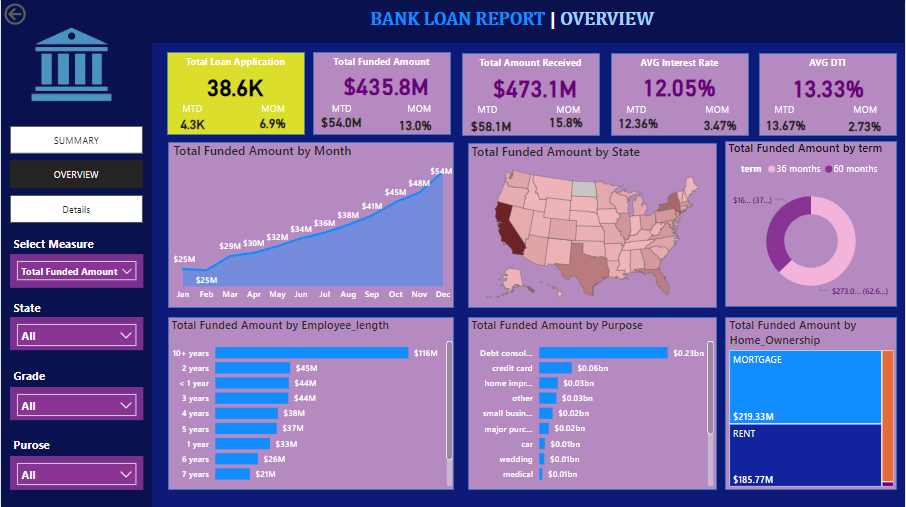

What the dashboard file says about the page in this screenshot:
{"tool":"powerbi","page":{"name":"OVERVIEW","canvas":[1280,720],"ordinal":1},"visuals":[{"type":"shape","box":[0,0,214,720],"z":0},{"type":"shape","box":[441.9,74.3,195.6,117.6],"z":0,"group":"g2"},{"type":"shape","box":[0,0,1279.8,60.9],"z":1000},{"type":"card","fields":{"Values":["bank_loan_data.Total Funded Amount"]},"box":[470,102.2,153.1,38.3],"z":1000,"group":"g2"},{"type":"textbox","box":[510,7.1,427.1,44.3],"z":2000},{"type":"shape","box":[236.1,74.3,195.6,117.6],"z":2000,"group":"g7"},{"type":"textbox","box":[457.5,74.3,163,31.2],"z":2000,"group":"g2"},{"type":"shape","box":[653.1,75,195.6,117.6],"z":2000,"group":"g4"},{"type":"shape","box":[863.9,75,195.6,117.6],"z":2000,"group":"g5"},{"type":"shape","box":[1074.7,75,195.6,117.6],"z":2000,"group":"g6"},{"type":"group","id":"g1","title":"Group 1","box":[235.7,74.3,195.7,127.1],"z":3000},{"type":"textbox","box":[562.6,140.8,60.5,31.7],"z":3000,"group":"g2"},{"type":"group","id":"g2","title":"Group 2","box":[439.7,74.3,197.8,124.3],"z":4000},{"type":"card","fields":{"Values":["bank_loan_data.Total Amount Received"]},"box":[688.6,102,136.1,42.5],"z":4000,"group":"g4"},{"type":"card","fields":{"Values":["bank_loan_data.Avg Interest Rate"]},"box":[895.4,102,130.4,41.1],"z":4000,"group":"g5"},{"type":"card","fields":{"Values":["bank_loan_data.Avg DTI"]},"box":[1110.7,102,124.7,42.5],"z":4000,"group":"g6"},{"type":"card","fields":{"Values":["bank_loan_data.Total Loan Application"]},"box":[285.3,102.7,93.5,39.7],"z":4000,"group":"g7"},{"type":"group","id":"g3","title":"Group 4","box":[439.7,141,85.7,48.6],"z":4000,"group":"g2"},{"type":"textbox","box":[251.7,74.3,163,31.2],"z":5000,"group":"g7"},{"type":"group","id":"g4","title":"Group 2","box":[653.1,75,195.6,127.6],"z":5000},{"type":"textbox","box":[668.7,75,163,31.2],"z":5000,"group":"g4"},{"type":"textbox","box":[879.5,75,163,31.2],"z":5000,"group":"g5"},{"type":"textbox","box":[1090.3,75,163,31.2],"z":5000,"group":"g6"},{"type":"card","fields":{"Values":["bank_loan_data.MoM Funded Amount"]},"box":[555,157.5,65.2,41.1],"z":5000,"group":"g2"},{"type":"group","id":"g5","title":"Group 2","box":[862.8,75,196.7,127.6],"z":6000},{"type":"card","fields":{"Values":["bank_loan_data.MTD Avg Interest Rate"]},"box":[862.8,148.7,79.4,53.9],"z":6000,"group":"g5"},{"type":"card","fields":{"Values":["bank_loan_data.MTD Loan Application"]},"box":[235.7,152.3,72.1,49],"z":6000,"group":"g7"},{"type":"card","fields":{"Values":["bank_loan_data.MTD Amount Received"]},"box":[658.7,157.2,70.9,45.4],"z":6000,"group":"g4"},{"type":"card","fields":{"Values":["bank_loan_data.MTD Avg DTI"]},"box":[1075.5,157.2,72.3,42.5],"z":6000,"group":"g6"},{"type":"card","fields":{"Values":["bank_loan_data.MTD Funded Amount"]},"box":[439.7,159.6,85.7,30],"z":6000,"group":"g3"},{"type":"group","id":"g6","title":"Group 2","box":[1074.7,75,195.6,124.7],"z":7000},{"type":"textbox","box":[240,140.8,63.4,36],"z":7000,"group":"g7"},{"type":"textbox","box":[451.6,141,64.3,28.6],"z":7000,"group":"g3"},{"type":"textbox","box":[657,141.5,63.4,36],"z":7000,"group":"g4"},{"type":"textbox","box":[867.8,141.5,63.4,36],"z":7000,"group":"g5"},{"type":"textbox","box":[1078.6,141.5,63.4,36],"z":7000,"group":"g6"},{"type":"textbox","box":[356.8,140.8,60.5,31.7],"z":8000,"group":"g7"},{"type":"textbox","box":[773.8,141.5,60.5,31.7],"z":8000,"group":"g4"},{"type":"textbox","box":[984.6,141.5,60.5,31.7],"z":8000,"group":"g5"},{"type":"textbox","box":[1195.4,141.5,60.5,31.7],"z":8000,"group":"g6"},{"type":"shape","box":[236.7,201.3,405.4,235.3],"z":8000},{"type":"group","id":"g7","title":"Group 3","box":[235.7,74.3,196,127],"z":8001,"group":"g8"},{"type":"actionButton","box":[0,0,100,40],"z":9000},{"type":"card","fields":{"Values":["bank_loan_data.MoM Loan Application"]},"box":[356.8,153.8,57.7,44.7],"z":9000,"group":"g7"},{"type":"card","fields":{"Values":["bank_loan_data.MoM Avg Interest Rate"]},"box":[985,157.2,68,42.5],"z":9000,"group":"g5"},{"type":"card","fields":{"Values":["bank_loan_data.MoM Amount Received"]},"box":[766,159.3,67.1,31.4],"z":9000,"group":"g4"},{"type":"card","fields":{"Values":["bank_loan_data.MoM Avg DTI"]},"box":[1195.6,160.1,58.1,38.3],"z":9000,"group":"g6"},{"type":"group","id":"g8","title":"Group 2","box":[235.7,74.3,196,127],"z":9003,"group":"g1"},{"type":"slicer","fields":{"Values":["bank_loan_data.purpose"]},"box":[12.8,646.3,188.5,48.2],"z":10000},{"type":"slicer","fields":{"Values":["bank_loan_data.grade"]},"box":[12.8,548.5,188.5,46.8],"z":11000},{"type":"slicer","fields":{"Values":["bank_loan_data.address_state"]},"box":[12.8,449.3,188.5,46.8],"z":12000},{"type":"textbox","box":[12.8,419.5,59.5,32.6],"z":13000},{"type":"shape","box":[236.7,449.3,405.4,245.2],"z":14000},{"type":"textbox","box":[12.8,515.9,72.3,32.6],"z":15000},{"type":"textbox","box":[12.8,613.7,107.7,32.6],"z":16000},{"type":"textbox","box":[12.8,328.8,158.7,31.2],"z":17000},{"type":"areaChart","fields":{"Y":["bank_loan_data.Total Funded Amount"],"Category":["Date table.Month"]},"box":[239.5,201.3,405.4,233.9],"z":18000},{"type":"slicer","fields":{"Values":["New Measure.New Measure"]},"box":[12.8,360,188.5,48.2],"z":19000},{"type":"shape","box":[661.9,202.7,352.9,233.9],"z":20000},{"type":"shapeMap","fields":{"Value":["bank_loan_data.Total Funded Amount"],"Category":["bank_loan_data.address_state"]},"box":[661.9,202.7,352.9,233.9],"z":21000},{"type":"shape","box":[1026.1,199.8,243.8,235.3],"z":22000},{"type":"donutChart","fields":{"Y":["bank_loan_data.Total Funded Amount"],"Category":["bank_loan_data.term"]},"box":[1026.1,198.4,243.8,236.7],"z":23000},{"type":"clusteredBarChart","fields":{"Y":["bank_loan_data.Total Funded Amount"],"Category":["bank_loan_data.emp_length"]},"box":[236.7,449.3,408.2,245.2],"z":24000},{"type":"shape","box":[661.9,449.3,352.9,245.2],"z":25000},{"type":"barChart","fields":{"Y":["bank_loan_data.Total Funded Amount"],"Category":["bank_loan_data.purpose"]},"box":[661.9,449.3,352.9,245.2],"z":26000},{"type":"shape","box":[1026.1,449.3,243.8,245.2],"z":27000},{"type":"treemap","fields":{"Values":["bank_loan_data.Total Funded Amount"],"Group":["bank_loan_data.home_ownership"]},"box":[1027.6,449.3,242.4,245.2],"z":28000},{"type":"pageNavigator","box":[12.8,178.6,188.5,138.9],"z":29000},{"type":"image","box":[0,17,199.8,148.8],"z":30000}]}

Visuals, with their boxes in screenshot pixels (x1, y1, x2, y2), scaled from the page's 1280x720 canvas onto the 906x507 screenshot:
shape: box(0, 0, 151, 506)
shape: box(313, 52, 451, 135)
shape: box(0, 0, 905, 43)
card - bank_loan_data.Total Funded Amount: box(333, 72, 441, 99)
textbox: box(361, 5, 663, 36)
shape: box(167, 52, 306, 135)
textbox: box(324, 52, 439, 74)
shape: box(462, 53, 601, 136)
shape: box(611, 53, 750, 136)
shape: box(761, 53, 899, 136)
"Group 1" group: box(167, 52, 305, 142)
textbox: box(398, 99, 441, 121)
"Group 2" group: box(311, 52, 451, 140)
card - bank_loan_data.Total Amount Received: box(487, 72, 584, 102)
card - bank_loan_data.Avg Interest Rate: box(634, 72, 726, 101)
card - bank_loan_data.Avg DTI: box(786, 72, 874, 102)
card - bank_loan_data.Total Loan Application: box(202, 72, 268, 100)
"Group 4" group: box(311, 99, 372, 134)
textbox: box(178, 52, 294, 74)
"Group 2" group: box(462, 53, 601, 143)
textbox: box(473, 53, 589, 75)
textbox: box(623, 53, 738, 75)
textbox: box(772, 53, 887, 75)
card - bank_loan_data.MoM Funded Amount: box(393, 111, 439, 140)
"Group 2" group: box(611, 53, 750, 143)
card - bank_loan_data.MTD Avg Interest Rate: box(611, 105, 667, 143)
card - bank_loan_data.MTD Loan Application: box(167, 107, 218, 142)
card - bank_loan_data.MTD Amount Received: box(466, 111, 516, 143)
card - bank_loan_data.MTD Avg DTI: box(761, 111, 812, 141)
card - bank_loan_data.MTD Funded Amount: box(311, 112, 372, 134)
"Group 2" group: box(761, 53, 899, 141)
textbox: box(170, 99, 215, 124)
textbox: box(320, 99, 365, 119)
textbox: box(465, 100, 510, 125)
textbox: box(614, 100, 659, 125)
textbox: box(763, 100, 808, 125)
textbox: box(253, 99, 295, 121)
textbox: box(548, 100, 591, 122)
textbox: box(697, 100, 740, 122)
textbox: box(846, 100, 889, 122)
shape: box(168, 142, 454, 307)
"Group 3" group: box(167, 52, 306, 142)
actionButton: box(0, 0, 71, 28)
card - bank_loan_data.MoM Loan Application: box(253, 108, 293, 140)
card - bank_loan_data.MoM Avg Interest Rate: box(697, 111, 745, 141)
card - bank_loan_data.MoM Amount Received: box(542, 112, 590, 134)
card - bank_loan_data.MoM Avg DTI: box(846, 113, 887, 140)
"Group 2" group: box(167, 52, 306, 142)
slicer - bank_loan_data.purpose: box(9, 455, 142, 489)
slicer - bank_loan_data.grade: box(9, 386, 142, 419)
slicer - bank_loan_data.address_state: box(9, 316, 142, 349)
textbox: box(9, 295, 51, 318)
shape: box(168, 316, 454, 489)
textbox: box(9, 363, 60, 386)
textbox: box(9, 432, 85, 455)
textbox: box(9, 232, 121, 254)
areaChart - bank_loan_data.Total Funded Amount x Date table.Month: box(170, 142, 456, 306)
slicer - New Measure.New Measure: box(9, 254, 142, 287)
shape: box(469, 143, 718, 307)
shapeMap - bank_loan_data.Total Funded Amount x bank_loan_data.address_state: box(469, 143, 718, 307)
shape: box(726, 141, 899, 306)
donutChart - bank_loan_data.Total Funded Amount x bank_loan_data.term: box(726, 140, 899, 306)
clusteredBarChart - bank_loan_data.Total Funded Amount x bank_loan_data.emp_length: box(168, 316, 456, 489)
shape: box(469, 316, 718, 489)
barChart - bank_loan_data.Total Funded Amount x bank_loan_data.purpose: box(469, 316, 718, 489)
shape: box(726, 316, 899, 489)
treemap - bank_loan_data.Total Funded Amount x bank_loan_data.home_ownership: box(727, 316, 899, 489)
pageNavigator: box(9, 126, 142, 224)
image: box(0, 12, 141, 117)
